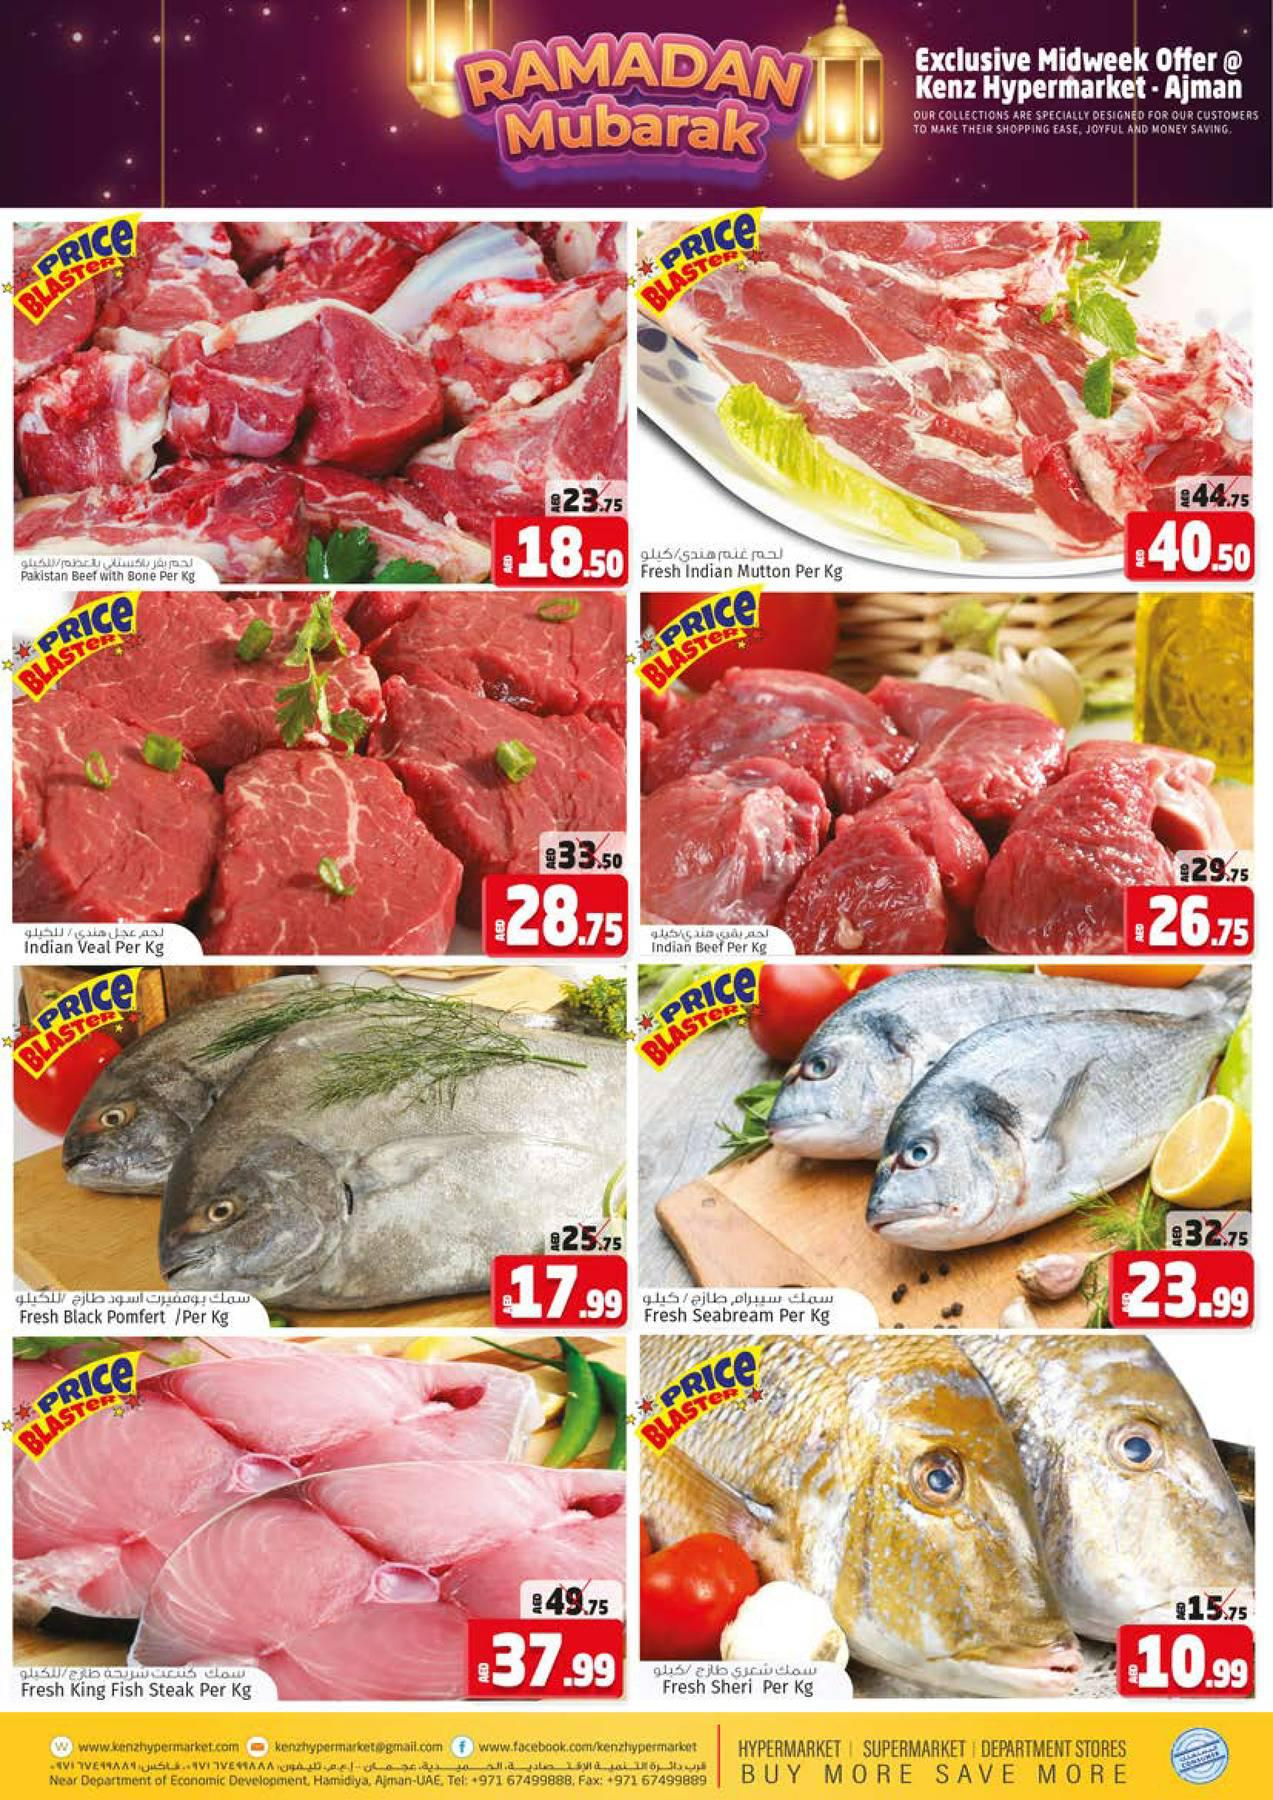text: (638, 537, 861, 589), (10, 1662, 266, 1708), (4, 1289, 260, 1330), (628, 1289, 854, 1332), (12, 550, 236, 591), (12, 920, 189, 963), (630, 923, 791, 965), (641, 1664, 829, 1699)
